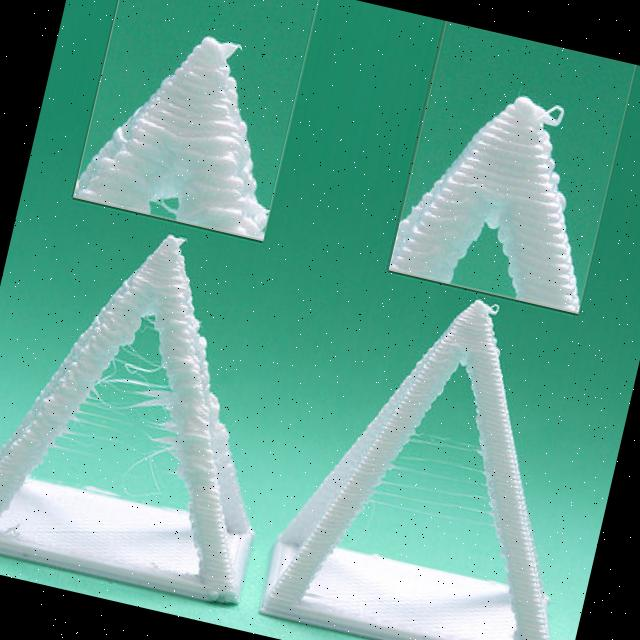stringing: (40, 332, 201, 524)
